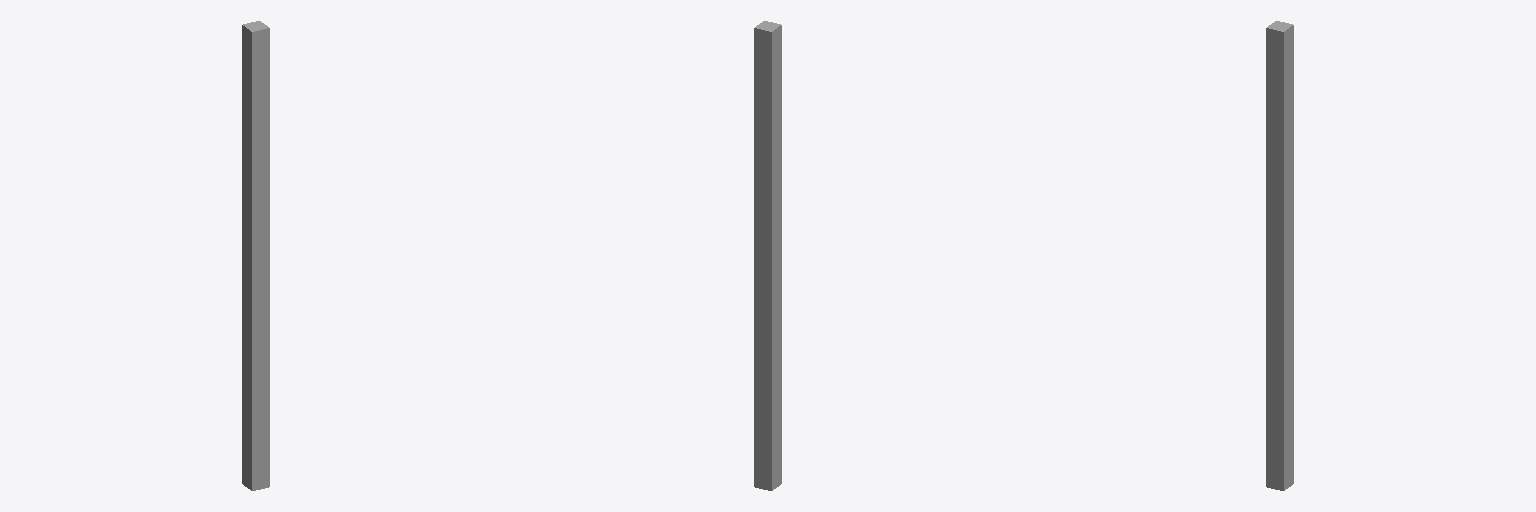
robot.urdf — inverted_pendulum:
<?xml version="1.0"?>
<robot name="inverted_pendulum">
  <link name="base">
  </link>

  <link name="pendulum">
    <inertial>
      <origin xyz="0 0 0.25" rpy="0 0 0"/>
      <mass value="1.0"/>
      <inertia ixx="0.0834" ixy="0" ixz="0" iyy="0.0834" iyz="0" izz="0.0001"/>
    </inertial>
    <visual>
      <origin xyz="0 0 0.25" rpy="0 0 0"/>
      <geometry>
        <box size="0.02 0.02 0.5"/>
      </geometry>
      <material name="gray">
        <color rgba="0.7 0.7 0.7 1.0"/>
      </material>
    </visual>
    <collision>
      <origin xyz="0 0 0.25" rpy="0 0 0"/>
      <geometry>
        <box size="0.02 0.02 0.5"/>
      </geometry>
    </collision>
  </link>

  <joint name="base_to_pendulum" type="revolute">
    <parent link="base"/>
    <child link="pendulum"/>
    <origin xyz="0 0 0" rpy="0 0 0"/>
    <axis xyz="0 1 0"/>
    <limit lower="-10000" upper="10000"/>
  </joint>
</robot>

--- Facts derived from the render (not from the file) ---
Views: 3 orthographic renders of the robot side by side, from view 1: azimuth 30°, elevation 25°; view 2: azimuth 150°, elevation 25°; view 3: azimuth 330°, elevation 25°.
Robot: inverted_pendulum — 2 links, 1 joints (1 revolute); root link base; default pose: all joints at 0.
Links seen in each view (by area): view 1: pendulum; view 2: pendulum; view 3: pendulum.
Link boxes in pixels (left/top/right/bottom): pendulum: left=242, top=21, right=269, bottom=490; pendulum: left=754, top=21, right=781, bottom=490; pendulum: left=1266, top=21, right=1293, bottom=490.
Size in the robot's own frame: 0.02 by 0.02 by 0.5 metres.
Geometry: primitives only (box / cylinder / sphere), no mesh files.
